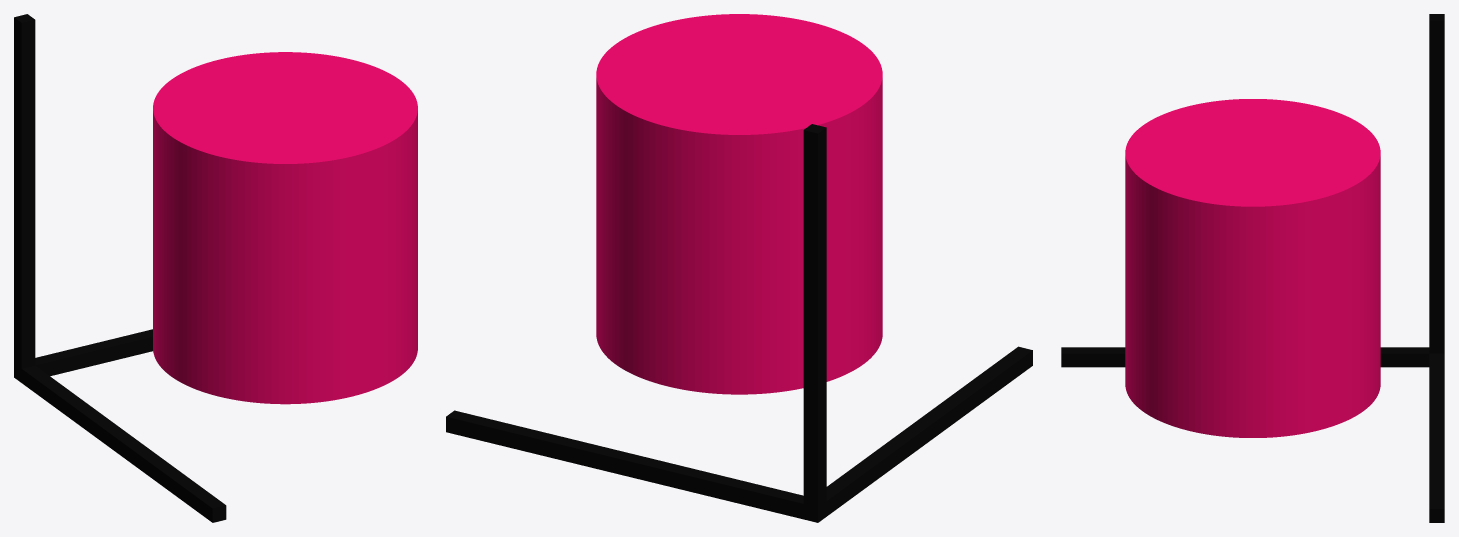
Rendered from cilindro.fbx.
The picture shows the model from 3 angles, left to right: view 1: azimuth 30°, elevation 25°; view 2: azimuth 150°, elevation 25°; view 3: azimuth 270°, elevation 25°; orthographic projection. The views are drawn at different scales.
Visible parts, largest first — view 1: Mesh_1.003, Mesh_0.006; view 2: Mesh_1.003, Mesh_0.006; view 3: Mesh_1.003, Mesh_0.006.
Boxes of the visible parts, bbox=[...] form: Mesh_1.003: bbox=[153, 52, 417, 404]; Mesh_0.006: bbox=[14, 14, 226, 522]; Mesh_1.003: bbox=[596, 14, 882, 394]; Mesh_0.006: bbox=[446, 124, 1032, 522]; Mesh_1.003: bbox=[1125, 99, 1380, 437]; Mesh_0.006: bbox=[1061, 14, 1444, 522].
Size of the model in its own units: 6 by 6 by 6.
